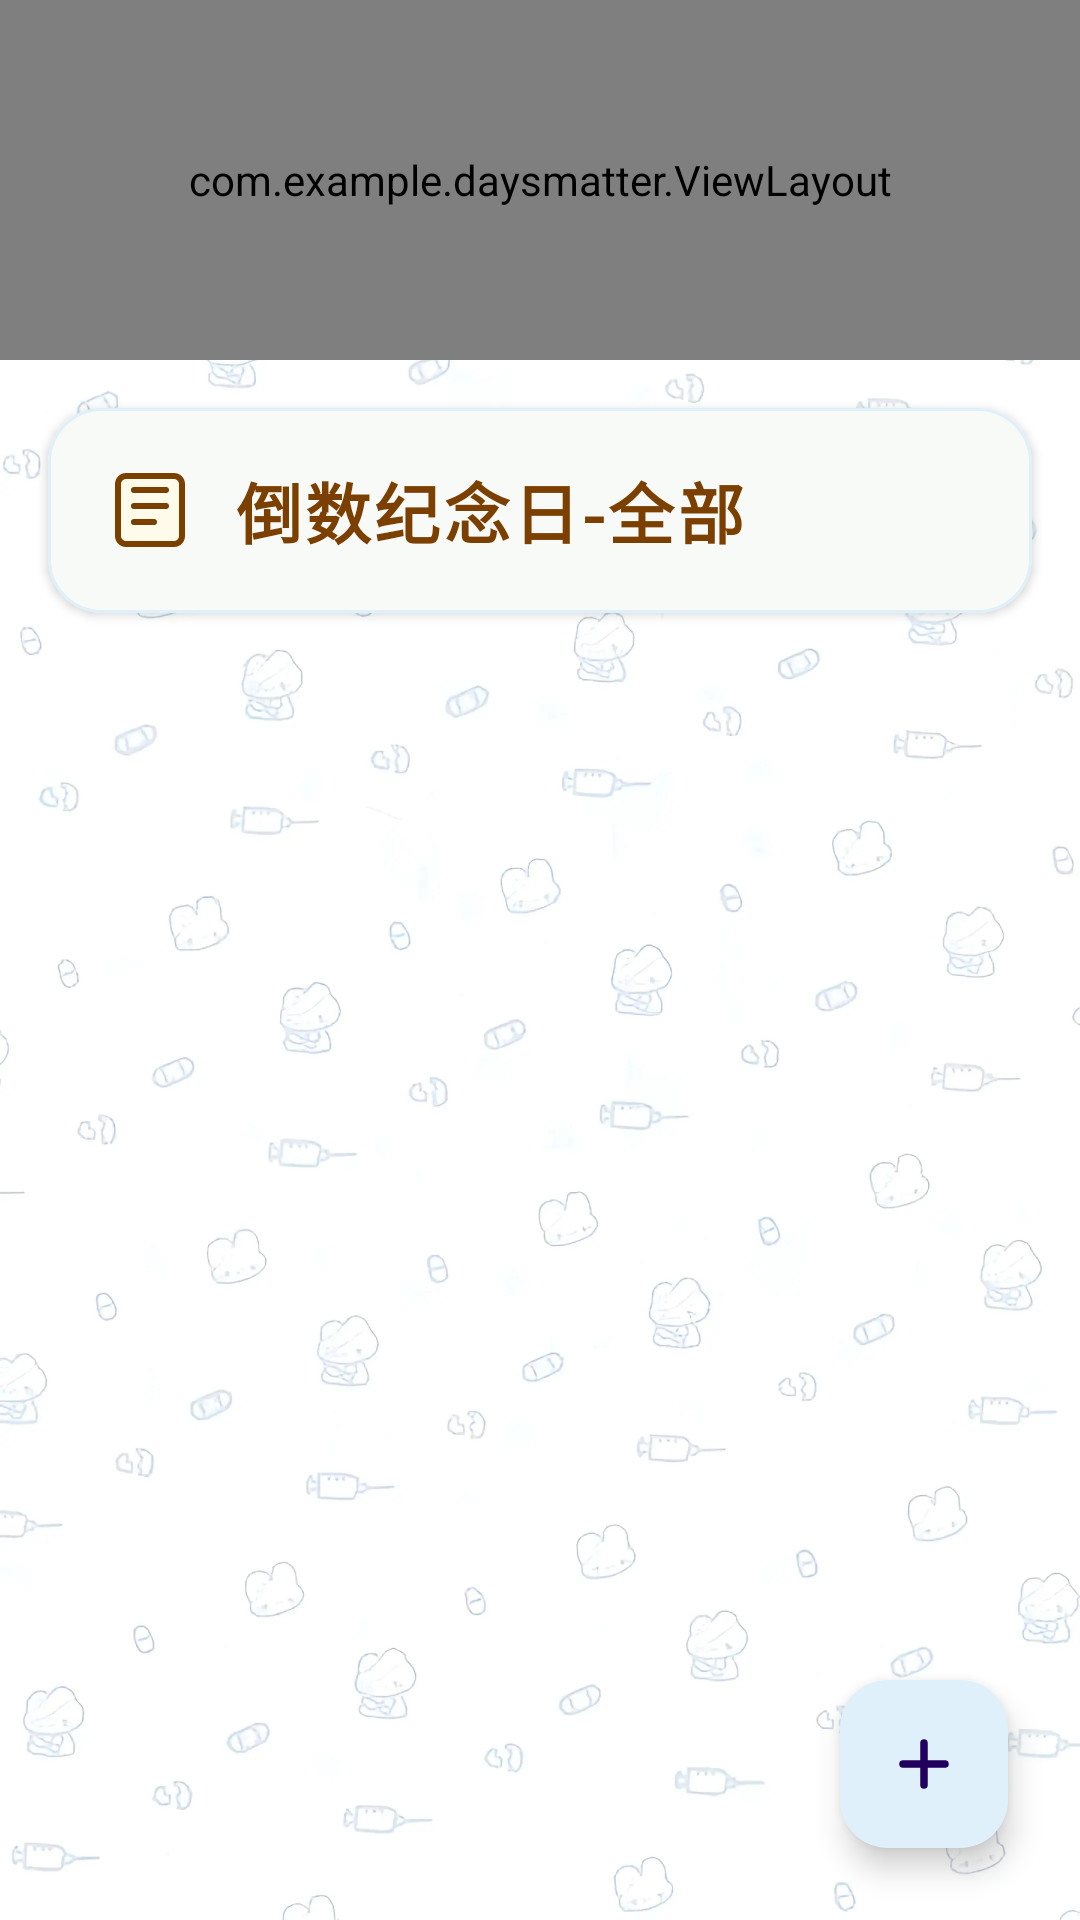

Screen size 1080px×1920px. Icon name, then its center in pixels as point (x, y):
add line: point (924, 1764)
